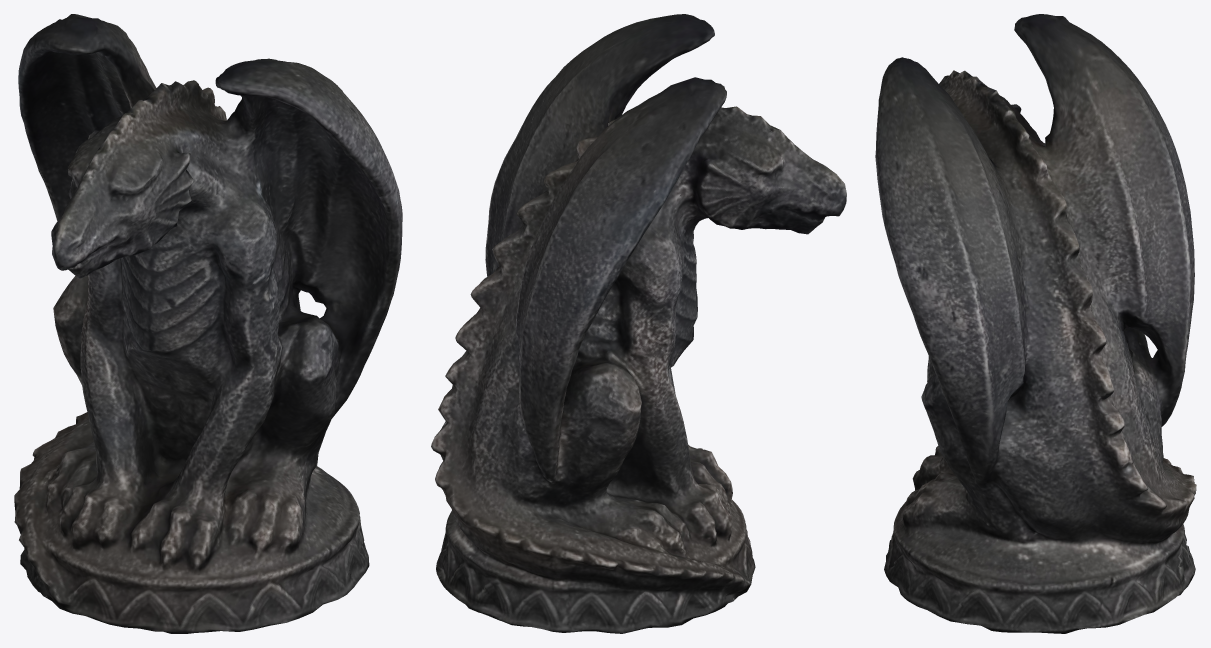
The picture shows the model from 3 angles, left to right: view 1: azimuth 30°, elevation 25°; view 2: azimuth 150°, elevation 25°; view 3: azimuth 270°, elevation 25°; orthographic projection. The views are drawn at different scales.
Parts seen in each view (by area): view 1: Gargoyle_LP; view 2: Gargoyle_LP; view 3: Gargoyle_LP.
Boxes of the visible parts, box(x1,y1,x2,y2) form: Gargoyle_LP: box(14, 14, 402, 633); Gargoyle_LP: box(431, 14, 846, 633); Gargoyle_LP: box(875, 14, 1196, 633).
Size of the model in its own units: 2422 by 3651 by 2105.
Materials: 1 (1 with a texture image).
